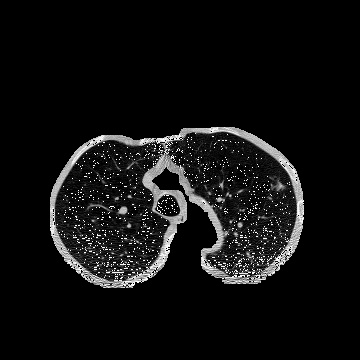PN: (275, 182, 283, 190)
